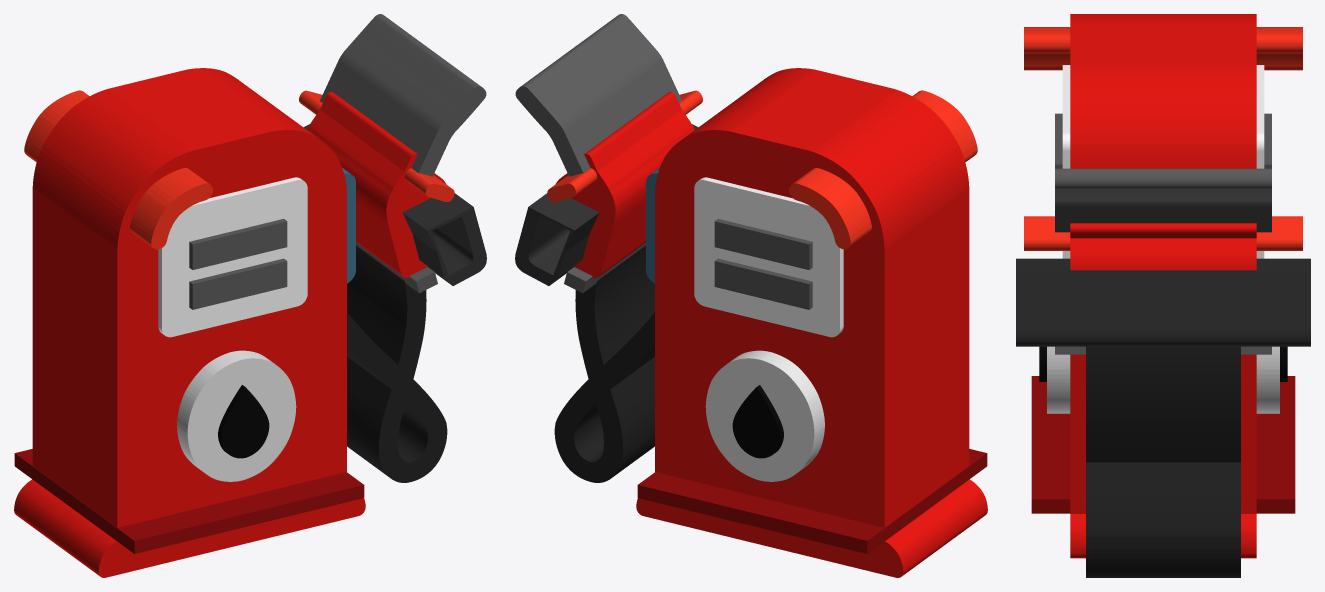
3 renders of one model, left to right at view 1: azimuth 30°, elevation 25°; view 2: azimuth 150°, elevation 25°; view 3: azimuth 270°, elevation 25°, orthographic. The views are drawn at different scales.
Parts seen in each view (by area): view 1: U+26FD_layer02_obj01, U+26FD_layer00_obj00, U+26FD_layer03_obj00, U+26FD_layer04_obj03, U+26FD_layer02_obj00, U+26FD_layer05_obj00, U+26FD_layer07_obj00, U+26FD_layer09_obj00, U+26FD_layer08_obj00, U+26FD_layer04_obj00, U+26FD_layer04_obj02, U+26FD_layer06_obj00 (+3 smaller); view 2: U+26FD_layer02_obj01, U+26FD_layer00_obj00, U+26FD_layer03_obj00, U+26FD_layer04_obj03, U+26FD_layer02_obj00, U+26FD_layer05_obj00, U+26FD_layer07_obj00, U+26FD_layer09_obj00, U+26FD_layer08_obj00, U+26FD_layer04_obj00, U+26FD_layer04_obj02, U+26FD_layer06_obj00 (+3 smaller); view 3: U+26FD_layer00_obj00, U+26FD_layer02_obj01, U+26FD_layer09_obj00, U+26FD_layer04_obj03, U+26FD_layer07_obj00, U+26FD_layer02_obj00, U+26FD_layer08_obj00, U+26FD_layer05_obj00, U+26FD_layer08_obj01, U+26FD_layer03_obj00, U+26FD_layer04_obj00, U+26FD_layer06_obj00 (+1 smaller).
Boxes of the visible parts, <box> form: U+26FD_layer02_obj01: <box>14,68,365,577</box>; U+26FD_layer00_obj00: <box>347,245,447,482</box>; U+26FD_layer03_obj00: <box>158,177,307,337</box>; U+26FD_layer04_obj03: <box>320,14,486,176</box>; U+26FD_layer02_obj00: <box>307,92,446,277</box>; U+26FD_layer05_obj00: <box>177,350,296,481</box>; U+26FD_layer07_obj00: <box>14,449,364,553</box>; U+26FD_layer09_obj00: <box>303,124,486,285</box>; U+26FD_layer08_obj00: <box>24,90,212,249</box>; U+26FD_layer04_obj00: <box>189,219,287,269</box>; U+26FD_layer04_obj02: <box>189,258,287,309</box>; U+26FD_layer06_obj00: <box>218,385,269,458</box>; U+26FD_layer02_obj01: <box>636,68,987,577</box>; U+26FD_layer00_obj00: <box>554,245,654,482</box>; U+26FD_layer03_obj00: <box>694,177,843,337</box>; U+26FD_layer04_obj03: <box>515,14,681,176</box>; U+26FD_layer02_obj00: <box>555,92,694,277</box>; U+26FD_layer05_obj00: <box>705,350,824,481</box>; U+26FD_layer07_obj00: <box>637,449,987,553</box>; U+26FD_layer09_obj00: <box>515,124,698,285</box>; U+26FD_layer08_obj00: <box>789,90,977,249</box>; U+26FD_layer04_obj00: <box>714,219,812,269</box>; U+26FD_layer04_obj02: <box>714,258,812,309</box>; U+26FD_layer06_obj00: <box>732,385,783,458</box>; U+26FD_layer00_obj00: <box>1086,346,1240,577</box>; U+26FD_layer02_obj01: <box>1070,14,1256,558</box>; U+26FD_layer09_obj00: <box>1016,258,1310,346</box>; U+26FD_layer04_obj03: <box>1055,168,1271,232</box>; U+26FD_layer07_obj00: <box>1031,376,1295,513</box>; U+26FD_layer02_obj00: <box>1070,223,1256,270</box>; U+26FD_layer08_obj00: <box>1024,27,1302,70</box>; U+26FD_layer05_obj00: <box>1047,346,1279,413</box>; U+26FD_layer08_obj01: <box>1024,216,1302,250</box>; U+26FD_layer03_obj00: <box>1062,65,1264,258</box>; U+26FD_layer04_obj00: <box>1055,113,1271,168</box>; U+26FD_layer06_obj00: <box>1039,346,1287,381</box>.
Size of the model in its own units: 0.3116 by 0.3188 by 0.19.
